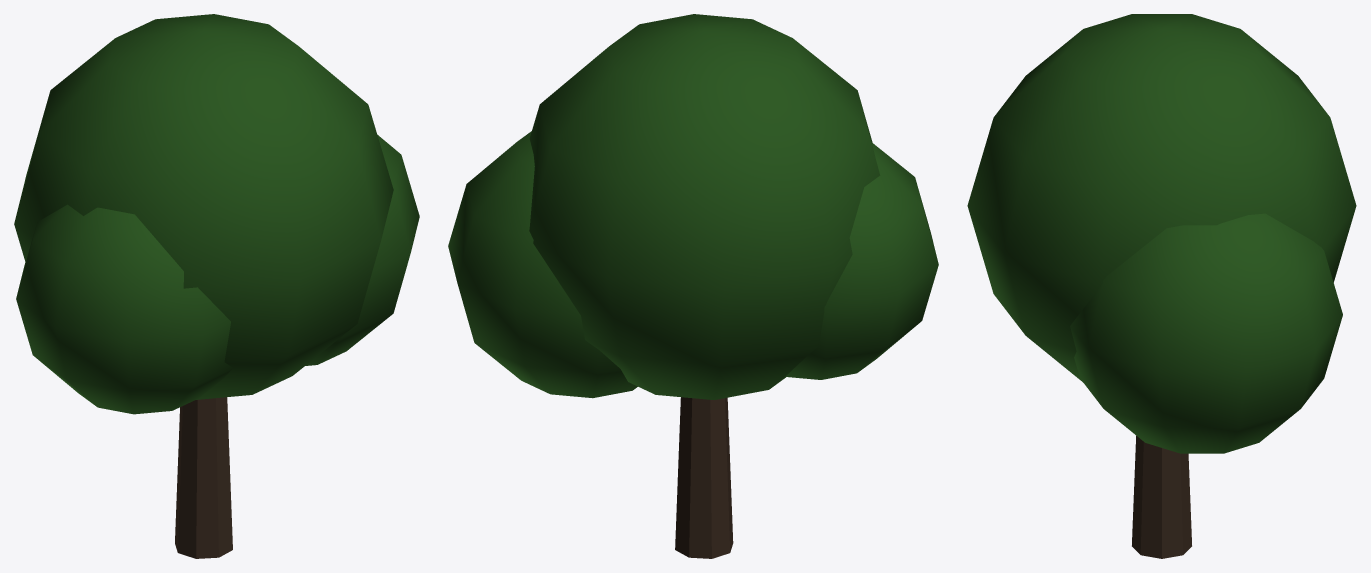
Rendered from tree.glb.
The picture shows the model from 3 angles, left to right: view 1: azimuth 30°, elevation 25°; view 2: azimuth 150°, elevation 25°; view 3: azimuth 270°, elevation 25°; orthographic projection.
Visible parts, largest first — view 1: Tree; view 2: Tree; view 3: Tree.
Boxes of the visible parts, x1=… form: Tree: x1=14, y1=14, x2=419, y2=558; Tree: x1=448, y1=14, x2=938, y2=558; Tree: x1=967, y1=14, x2=1356, y2=558.
Bounding box in the file's own units: 7 × 8.5 × 5.8.
